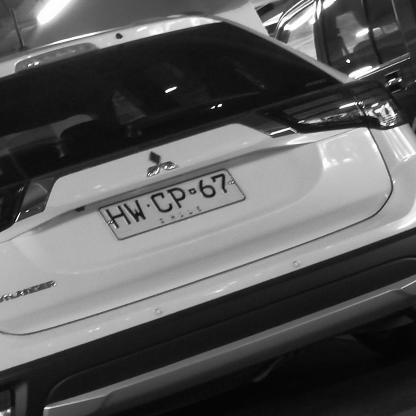Patente: (100, 167, 247, 242)
